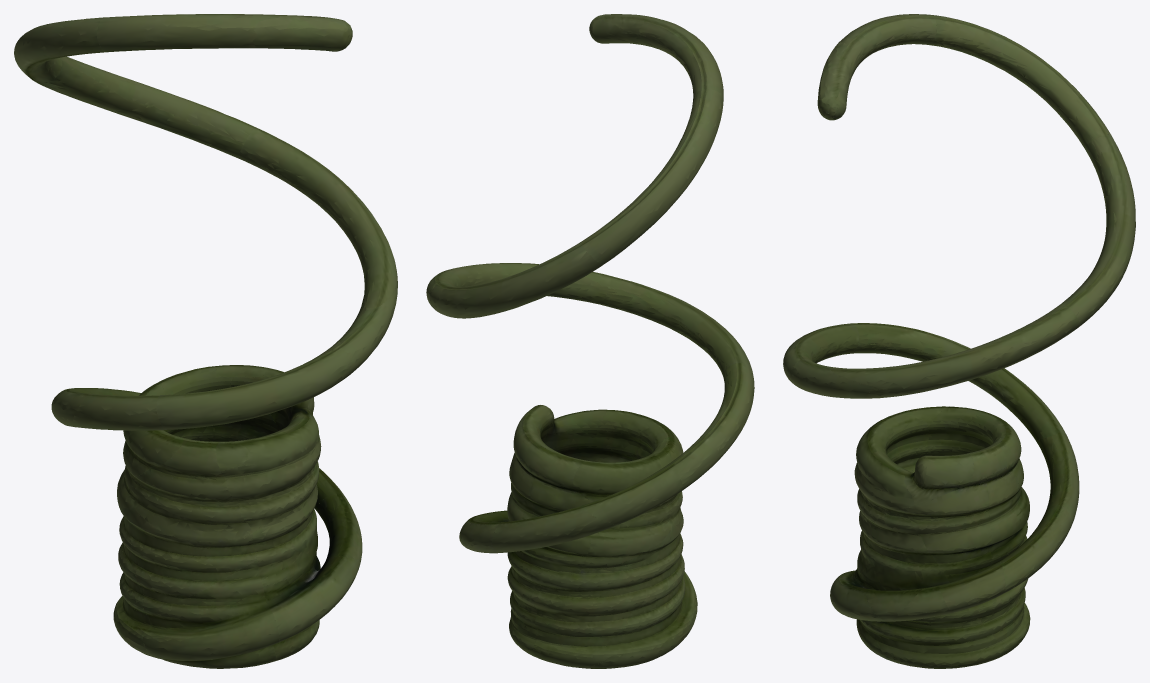
File: 03_6_gj_pen_holder1-opt-v16.glb
The picture shows the model from 3 angles, left to right: view 1: azimuth 30°, elevation 25°; view 2: azimuth 150°, elevation 25°; view 3: azimuth 270°, elevation 25°; orthographic projection. The views are drawn at different scales.
Visible parts, largest first — view 1: tripo_node_c66e9d44-3401-48d4-bc1d-c42708ec62ac.002; view 2: tripo_node_c66e9d44-3401-48d4-bc1d-c42708ec62ac.002; view 3: tripo_node_c66e9d44-3401-48d4-bc1d-c42708ec62ac.002.
Boxes of the visible parts, box(x1,y1,x2,y2) form: tripo_node_c66e9d44-3401-48d4-bc1d-c42708ec62ac.002: box(14, 14, 397, 668); tripo_node_c66e9d44-3401-48d4-bc1d-c42708ec62ac.002: box(426, 14, 754, 668); tripo_node_c66e9d44-3401-48d4-bc1d-c42708ec62ac.002: box(783, 14, 1135, 668).
Size of the model in its own units: 0.1365 by 0.2803 by 0.1542.
1 material, 1 textured.
